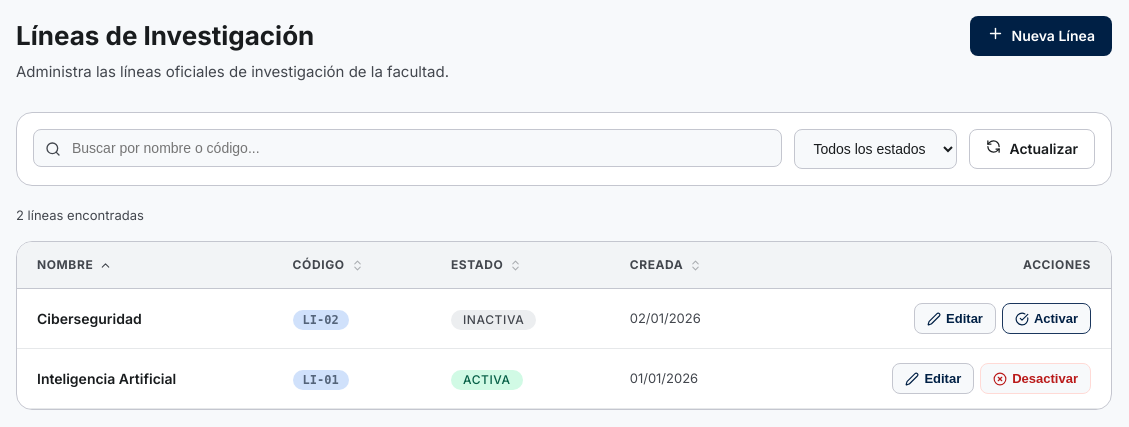
Scenario: ResearchLines page › filters lines by search term
Check: the text "Inteligencia Artificial" is shown, box [17,348,273,408]
Type "Ciber" into the field with placeholder "Buscar por nombre o código..." at (408, 148), box [33,128,782,166]
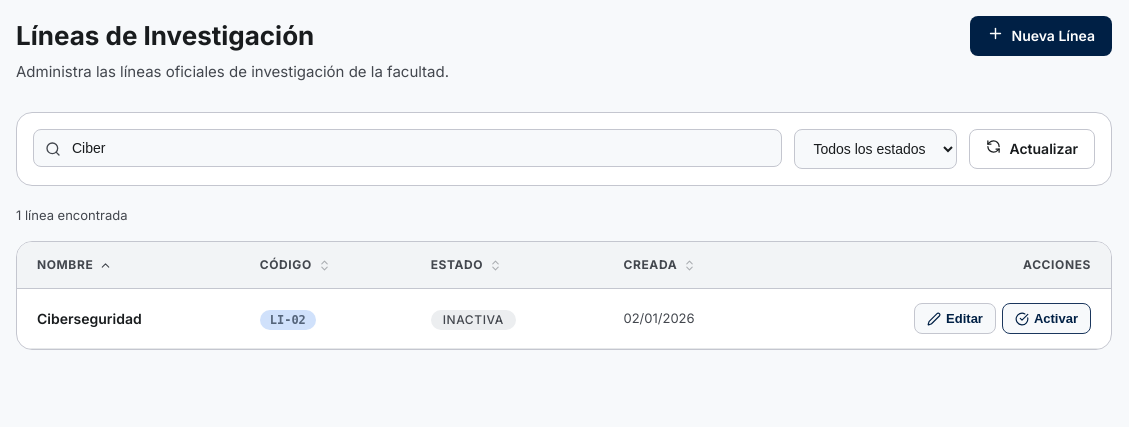
Check: the text "Ciberseguridad" is shown, box [17,288,240,348]
Check: the text "Inteligencia Artificial" is gone
